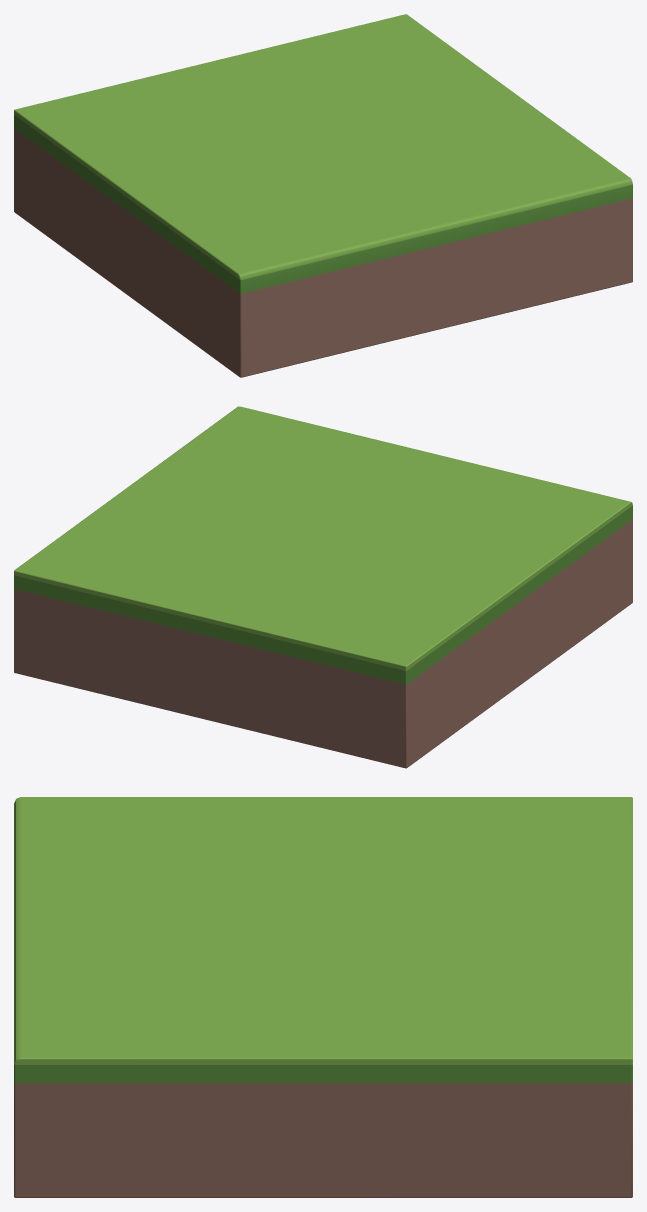
Rendered from grass_tile_edge_01.glb.
3 views of the same model, one above another, from view 1: azimuth 30°, elevation 25°; view 2: azimuth 150°, elevation 25°; view 3: azimuth 270°, elevation 25° (orthographic). The views are drawn at different scales.
Parts seen in each view (by area): view 1: grass_tile_edge_01; view 2: grass_tile_edge_01; view 3: grass_tile_edge_01.
Boxes of the visible parts, bbox=[...] form: grass_tile_edge_01: bbox=[14, 14, 632, 377]; grass_tile_edge_01: bbox=[14, 406, 632, 768]; grass_tile_edge_01: bbox=[14, 797, 632, 1197].
Bounding box in the file's own units: 1 × 0.25 × 1.
